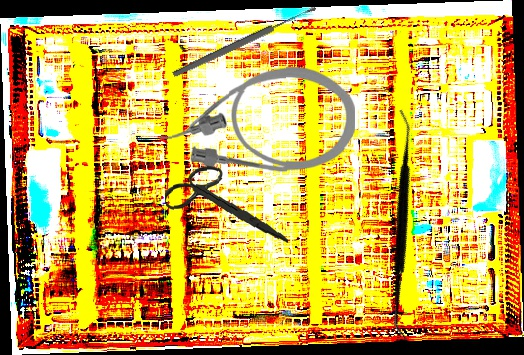Cannula: (159, 65, 356, 175)
Iris Scissors: (162, 158, 289, 255)
Spatula Surgical: (302, 108, 505, 342)
Surgical Spoon: (171, 4, 318, 79)
